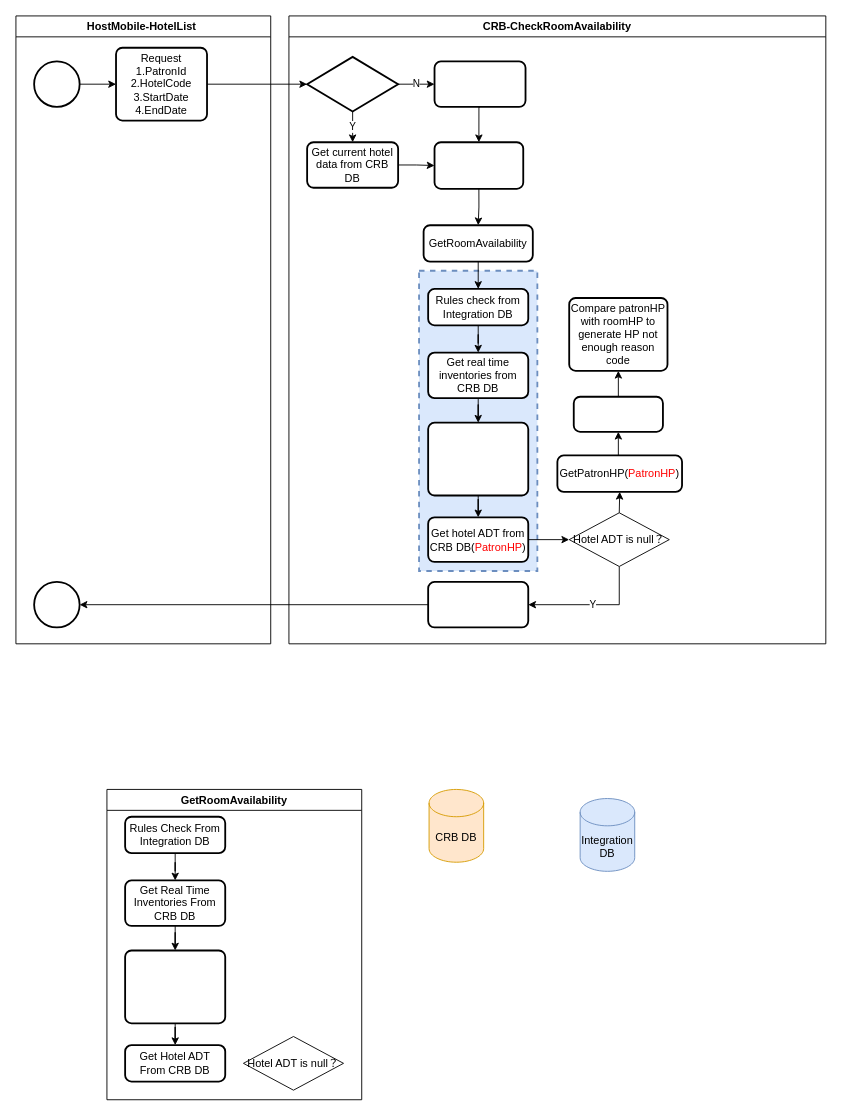
Image size: 842x1116. Some labels were removed from this diagram. The shapes that lost their labels are listed below. From the top down, each one's centre as x and y in pixels, then its label:
At (x=56, y=83): "START".
At (x=352, y=84): "HotelCode is Empty?".
At (x=479, y=83): "Get all hotels data from CRB DB".
At (x=478, y=165): "Assemble CRB request paramters".
At (x=617, y=413): "Get value metric ( RoomHP )".
At (x=478, y=458): "Generate not exist in real time inventory for room type reason code".
At (x=56, y=604): "END".
At (x=478, y=604): "Return No Available Hotel Error Reason Code".
At (x=175, y=986): "Generate Not Exist In Real Time Inventory Form Room Type Error Reason Code".
